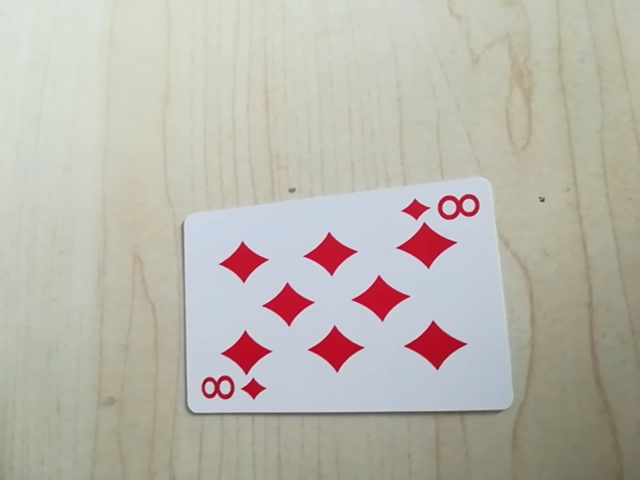fk 8: (399, 188, 484, 227), (196, 371, 265, 409)
